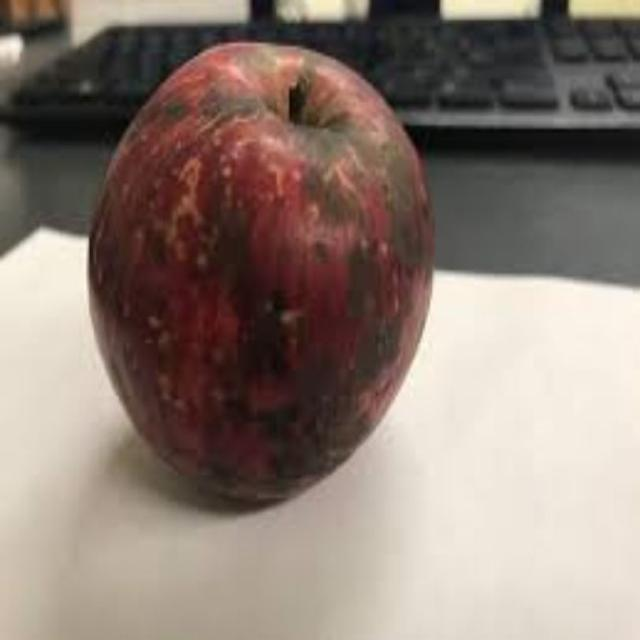Rotten Apple: (75, 31, 464, 541)
